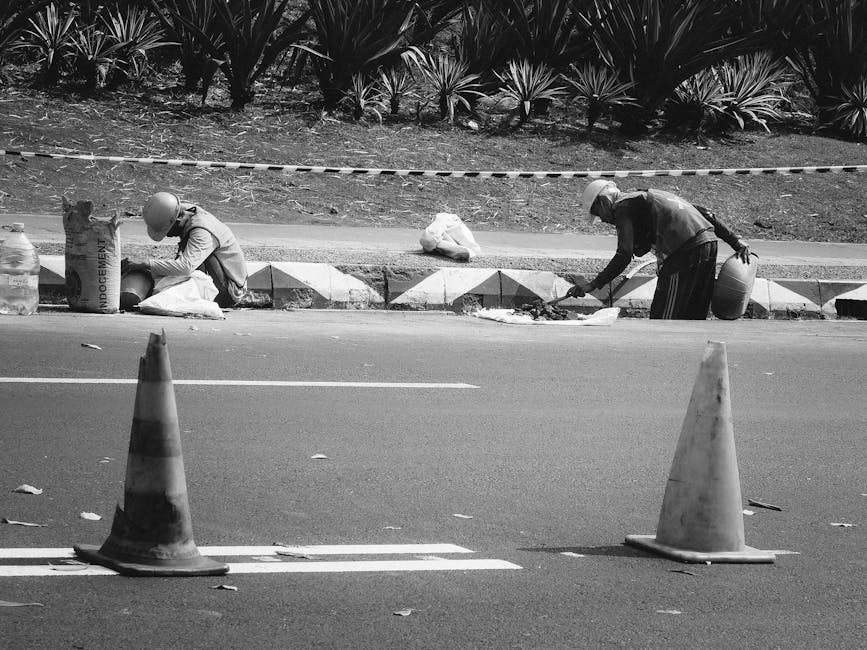traffic_cone: (73, 327, 230, 577), (624, 339, 777, 565)
